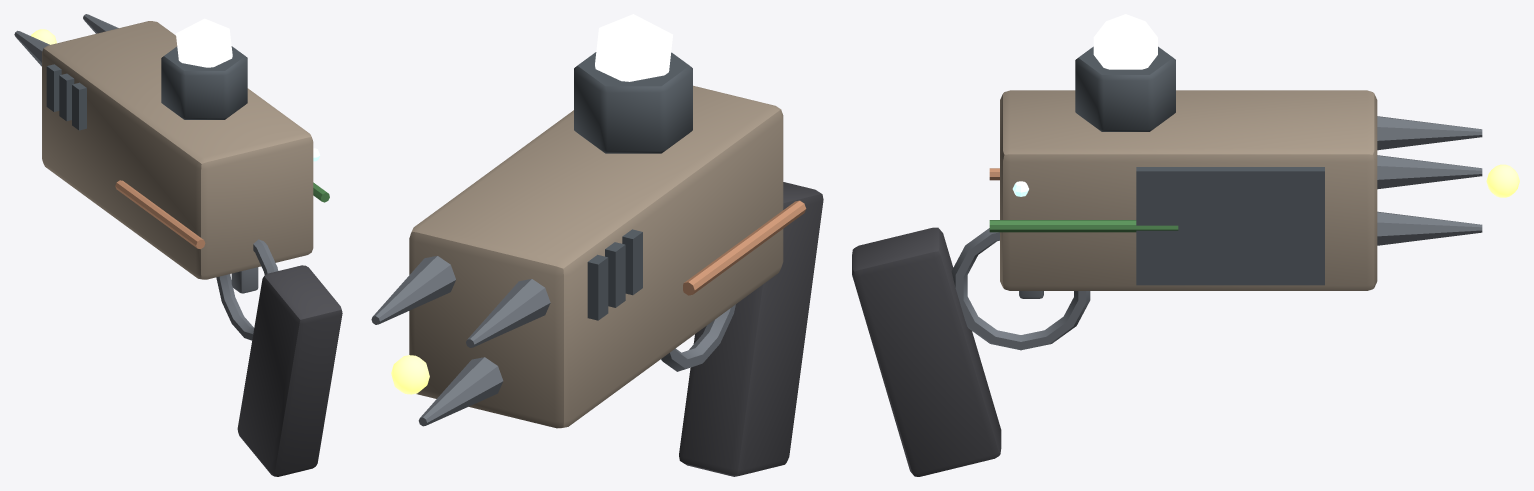
The model's file is ResourceExtractor_T1.fbx.
The picture shows the model from 3 angles, left to right: view 1: azimuth 30°, elevation 25°; view 2: azimuth 150°, elevation 25°; view 3: azimuth 270°, elevation 25°; orthographic projection. The views are drawn at different scales.
Visible parts, largest first — view 1: ResourceExtractor_T1; view 2: ResourceExtractor_T1; view 3: ResourceExtractor_T1.
Boxes of the visible parts, x1,y1,x2,y2 form: ResourceExtractor_T1: (14,14,342,476); ResourceExtractor_T1: (371,14,823,476); ResourceExtractor_T1: (852,14,1519,476).
Bounding box in the file's own units: 8.8 × 23.83 × 31.86.
